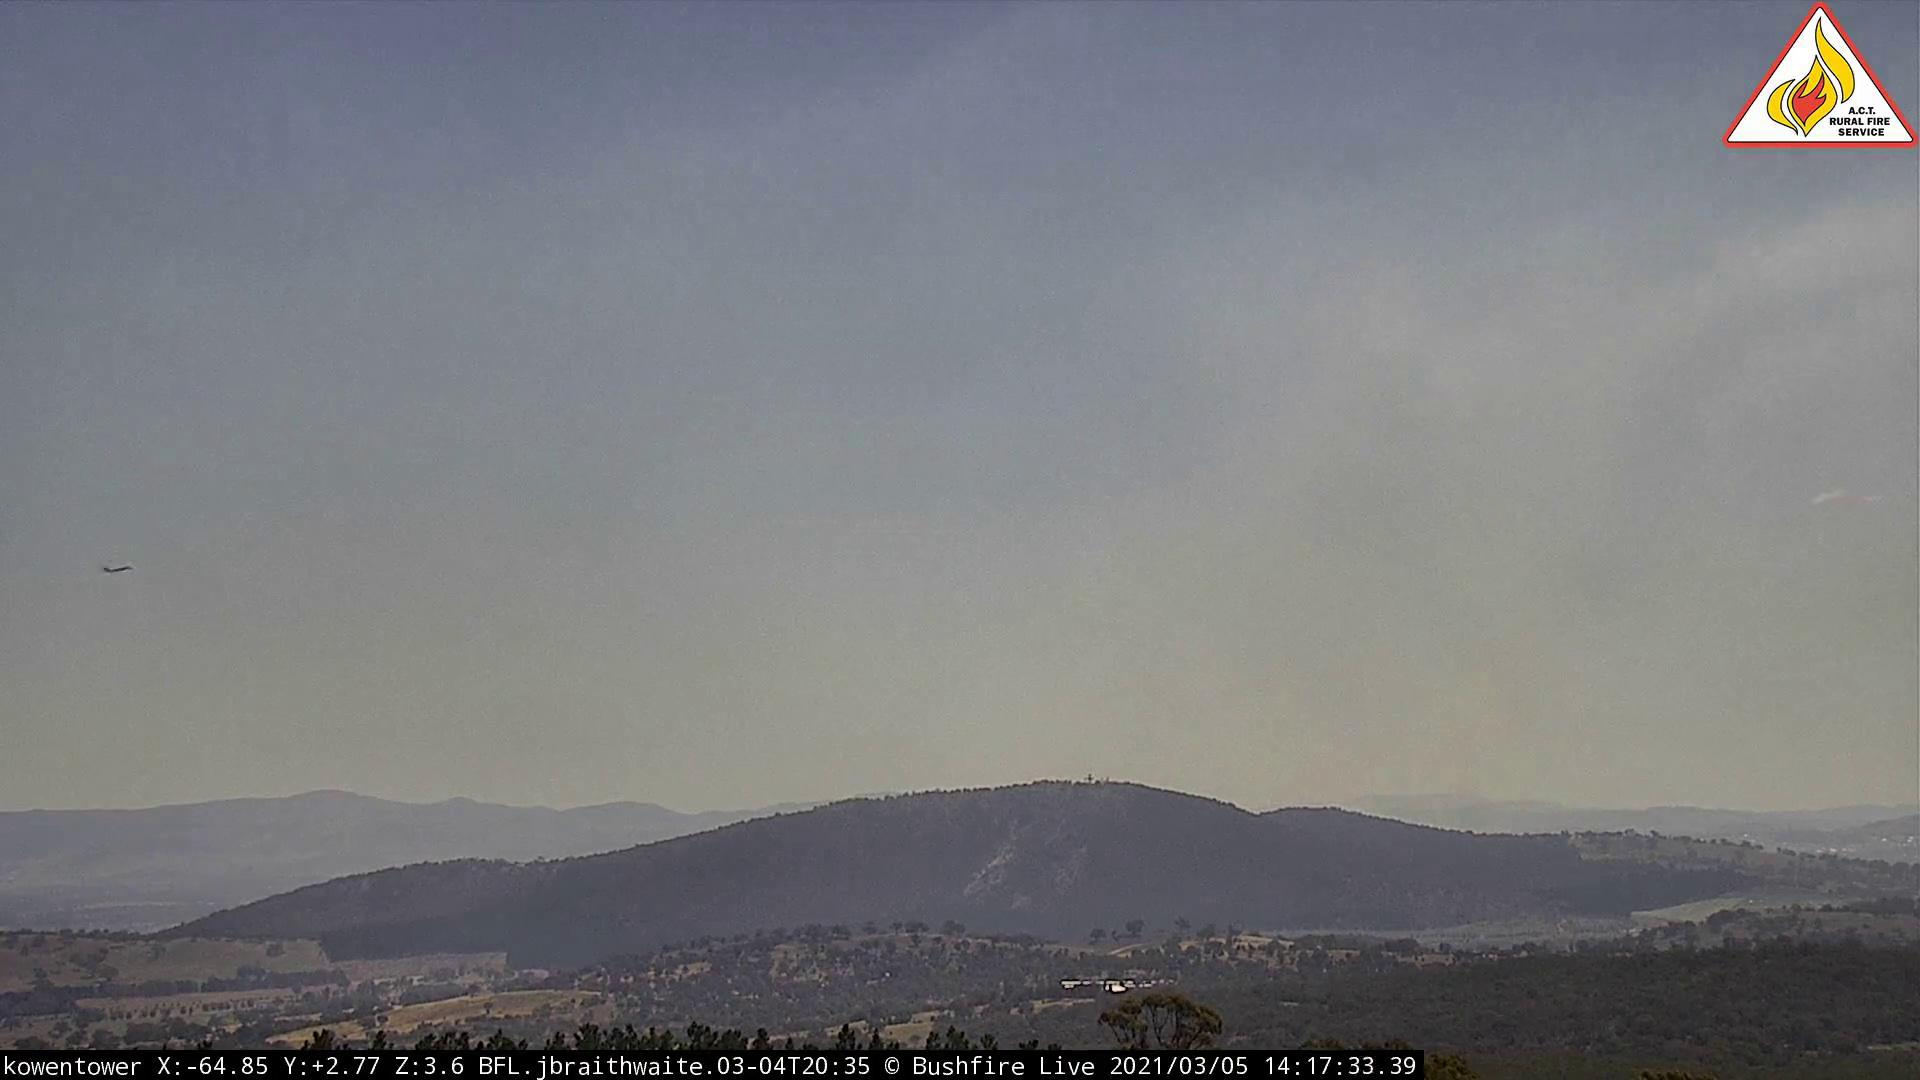Smoke: (1273, 433, 1767, 839)
